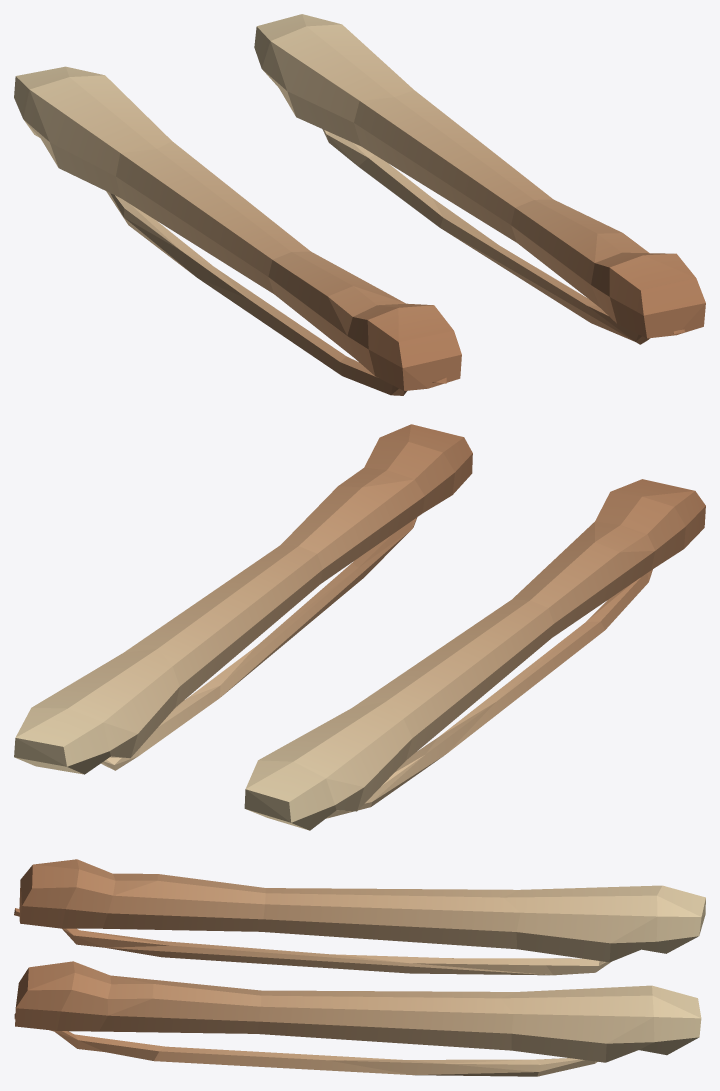
The model's file is tibia.fbx.
3 views of the same model, one above another, from view 1: azimuth 30°, elevation 25°; view 2: azimuth 150°, elevation 25°; view 3: azimuth 270°, elevation 25° (orthographic). The views are drawn at different scales.
Parts seen in each view (by area): view 1: Tibia; view 2: Tibia; view 3: Tibia.
Part boxes in pixels (<box>): Tibia: <box>14,14,705,395</box>; Tibia: <box>14,424,705,830</box>; Tibia: <box>14,859,705,1076</box>.
Size of the model in its own units: 20.39 by 7.34 by 44.1.
